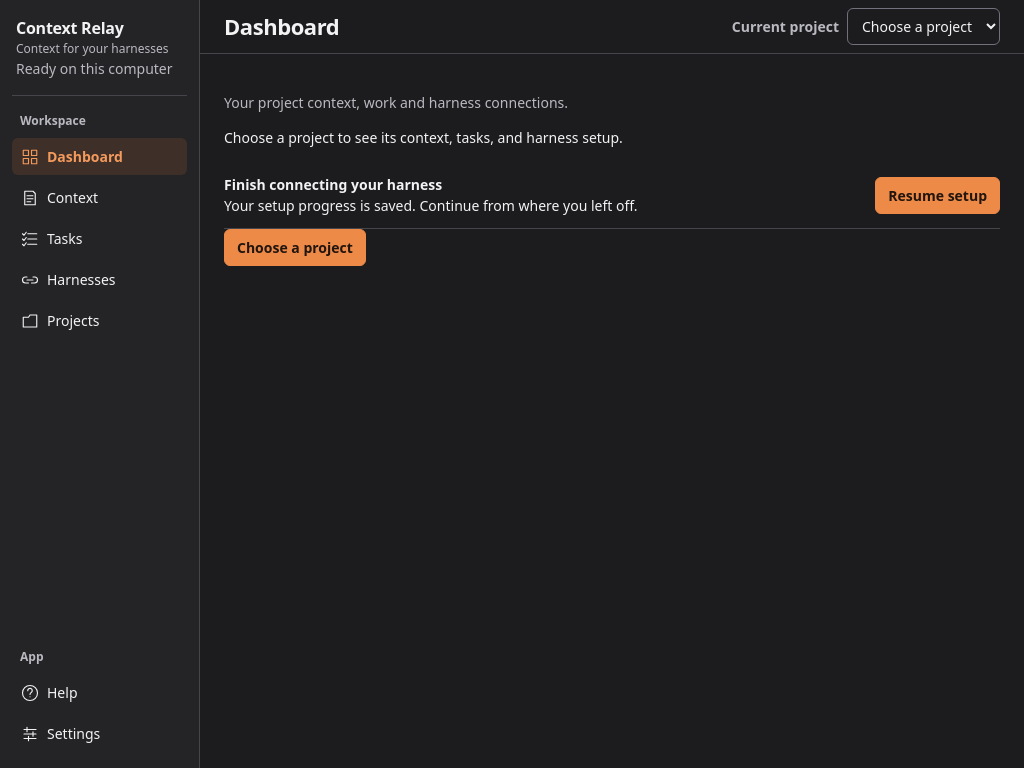
Scenario: does not keep a different workspace project active when the resumed project was removed
Expected: the text "Ready on this computer" is shown, top-left (16, 59), bottom-right (173, 78)
Step 1. Select "Work project B" in the dropdown labelled "Current project" → (924, 26), box top-left (847, 8), bottom-right (1000, 45)
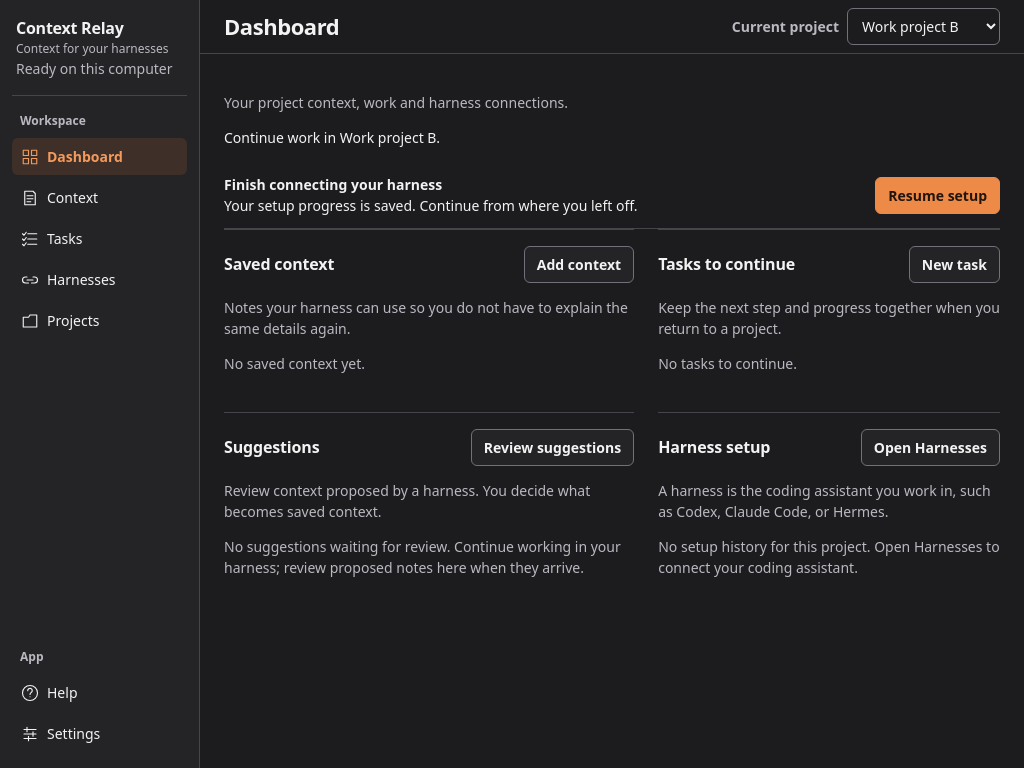
Step 2. Click the button "Resume setup" → (938, 195), box top-left (875, 176), bottom-right (1000, 214)
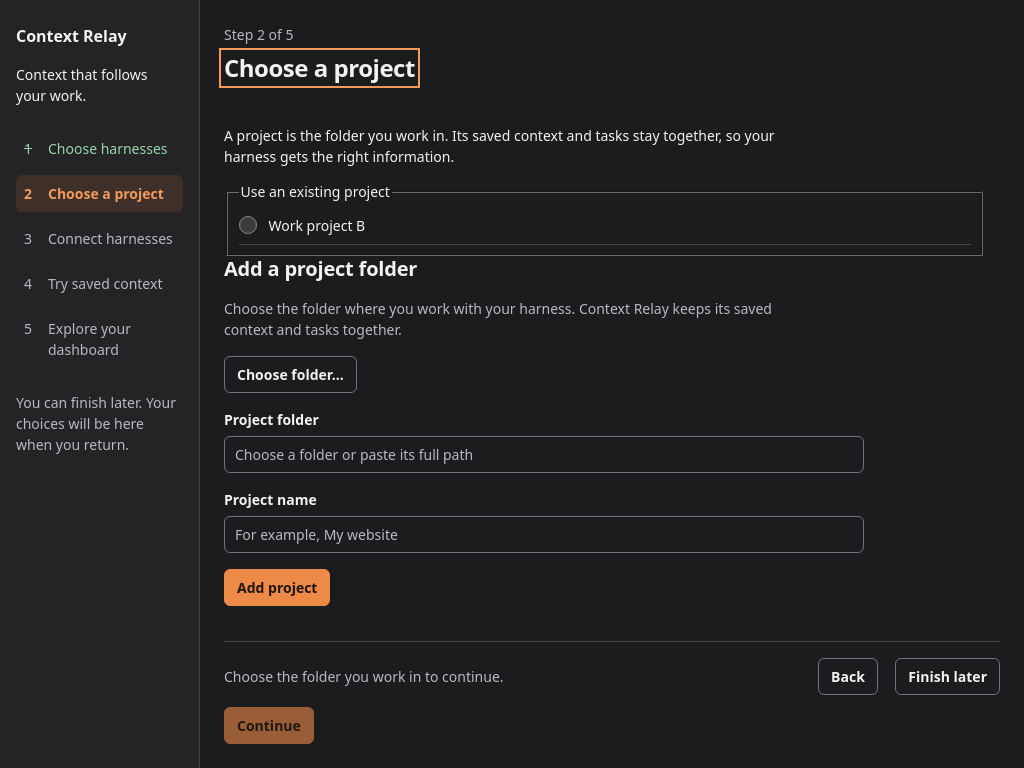
Expected: the button "Continue" is disabled, top-left (224, 707), bottom-right (314, 744)
Step 3. Click the button "Finish later" → (948, 676), box top-left (895, 658), bottom-right (1000, 695)
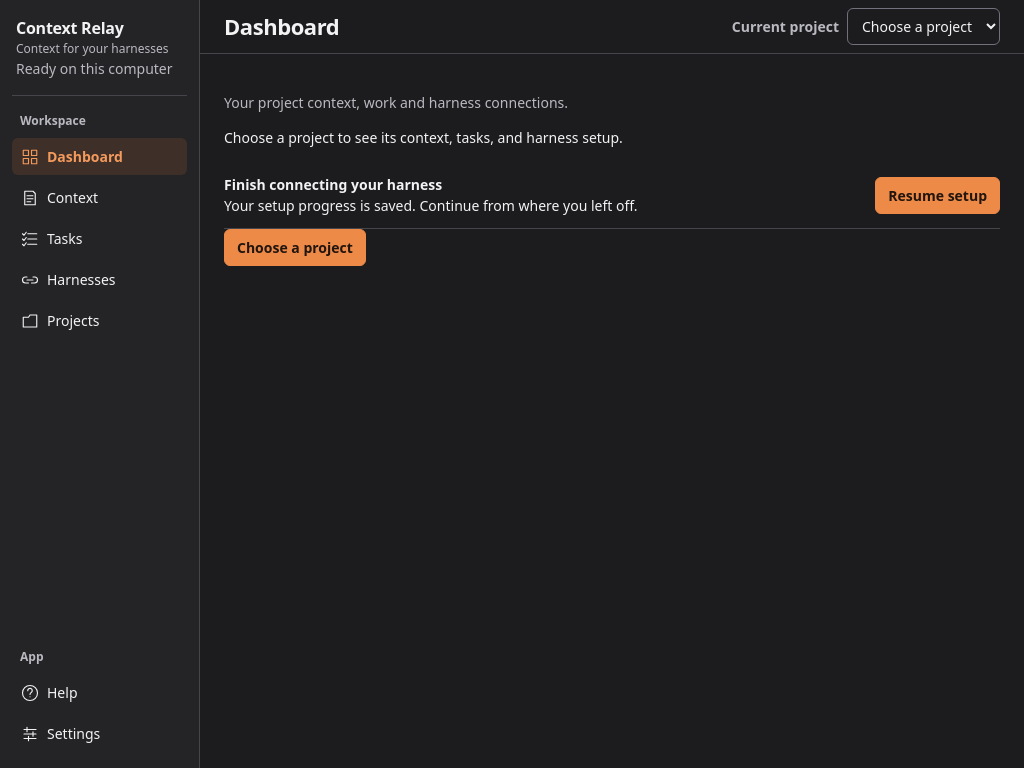
Expected: the dropdown labelled "Current project" shows "Choose a project", top-left (847, 8), bottom-right (1000, 45)
